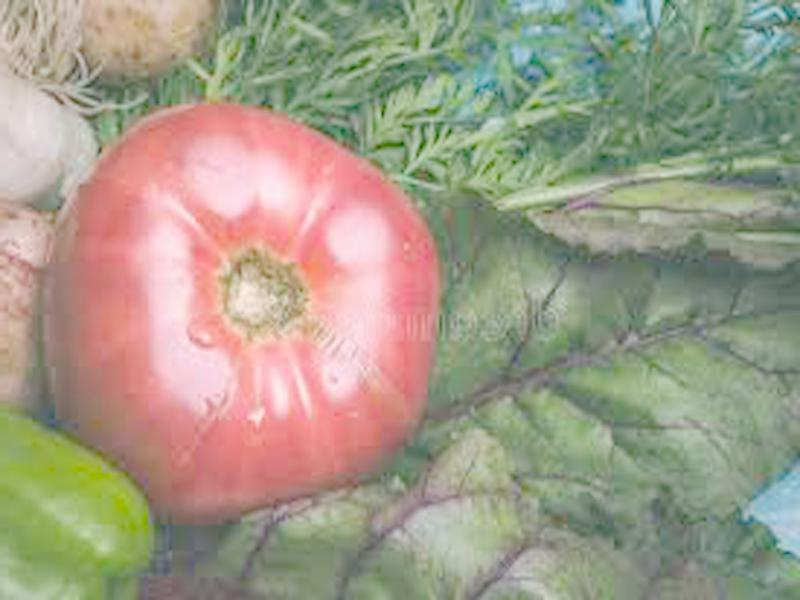Tomato: (37, 102, 438, 525)
